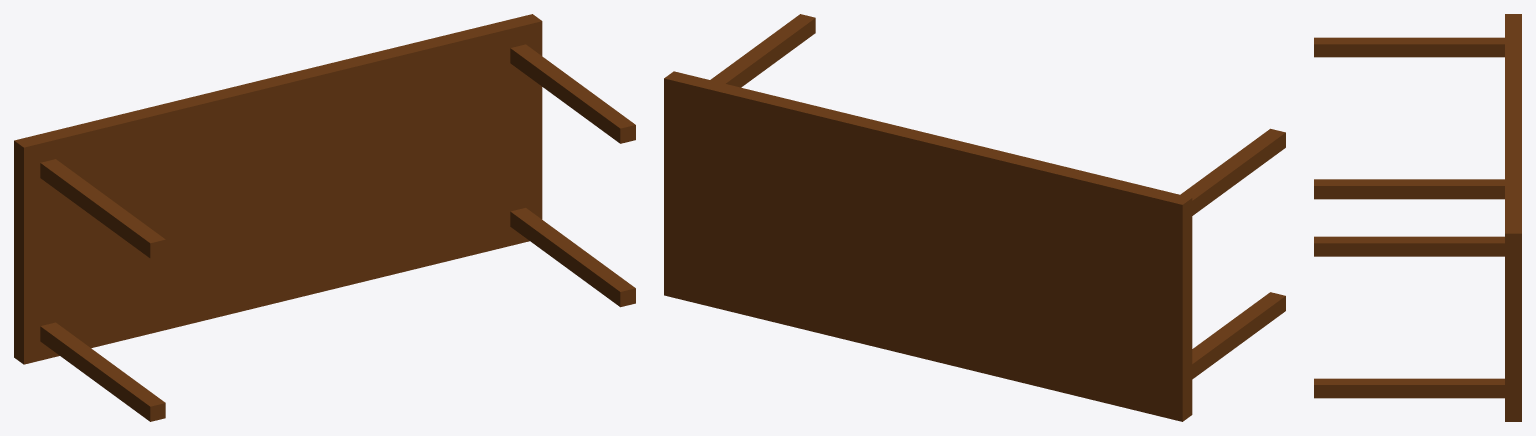
The model's file is Folding Table.fbx.
The picture shows the model from 3 angles, left to right: view 1: azimuth 30°, elevation 25°; view 2: azimuth 150°, elevation 25°; view 3: azimuth 270°, elevation 25°; orthographic projection. The views are drawn at different scales.
Visible parts, largest first — view 1: Table; view 2: Table; view 3: Table.
Part boxes in pixels (x1=…): Table: x1=14, y1=14, x2=635, y2=421; Table: x1=664, y1=14, x2=1285, y2=421; Table: x1=1314, y1=14, x2=1521, y2=421.
Size of the model in its own units: 250 by 100 by 100.
